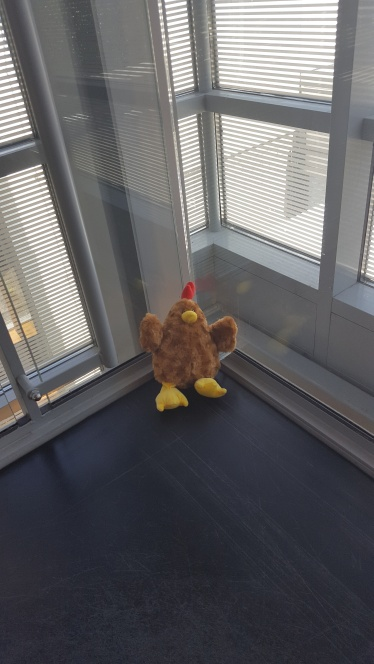chicken_front: (137, 281, 237, 410)
